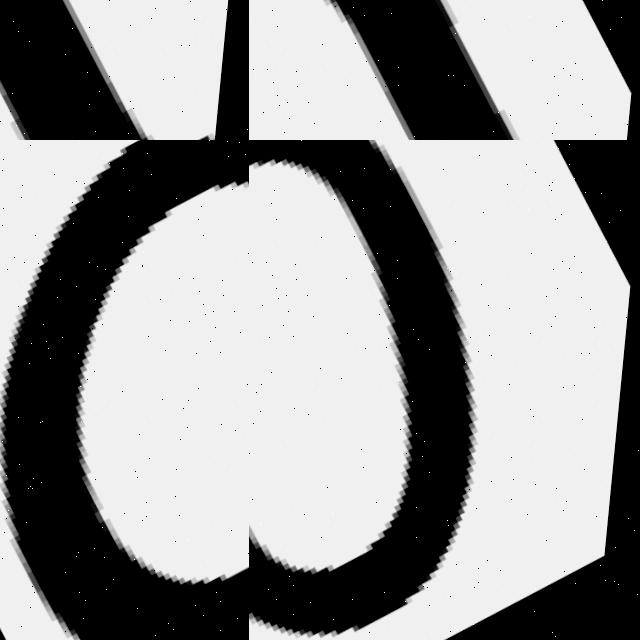0: (249, 140, 639, 640)
D: (0, 0, 249, 140)
O: (3, 140, 249, 640)
U: (249, 0, 640, 140)
